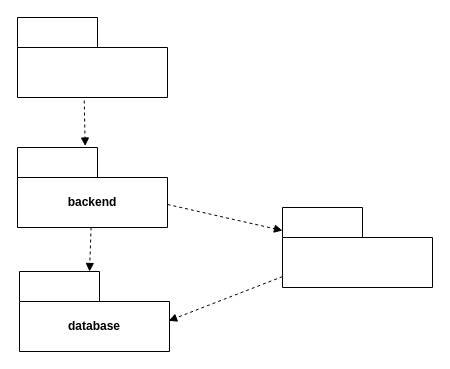
Image size: 450x369. Some labels were removed from this diagram. Here are the shapes that lost their labels. From the top down, the box of each, then its label:
(16, 16, 168, 98): frontend
(282, 206, 432, 288): python_pipeline
